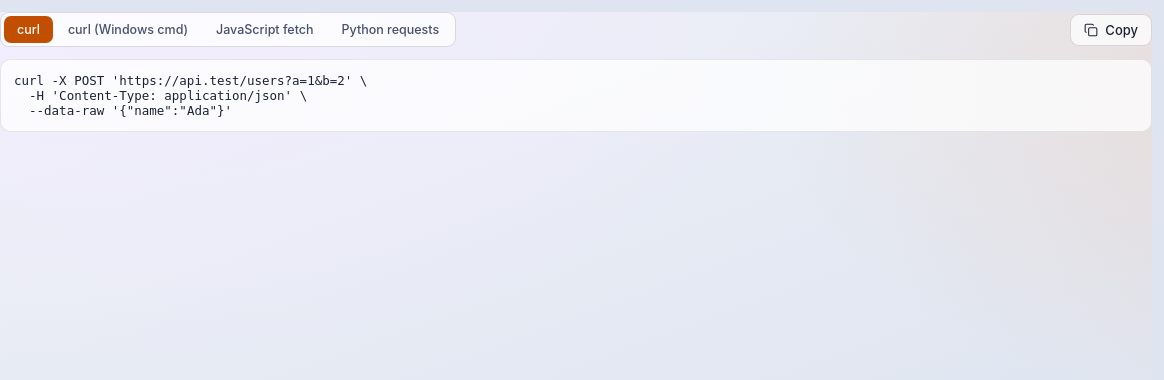
Test: Code tab › offers curl for Windows cmd, quoted the way cmd.exe reads it
Click the button "curl (Windows cmd)" at (128, 30), box [55, 16, 201, 43]
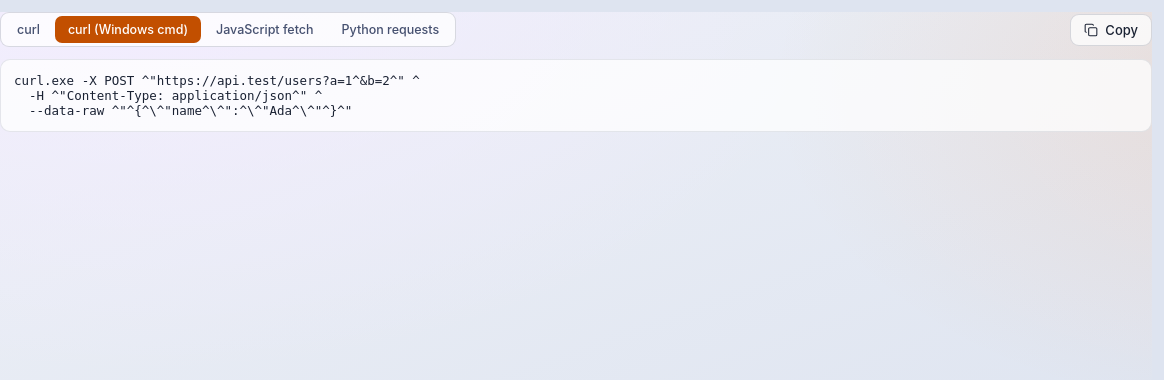
Result: the text named "Generated curl (Windows cmd) code" shows "--data-raw ^\"^{^\\^\"name^\\^\":^\\^\"Ada^\\^\"^}^\"" at [14, 73, 420, 118]
